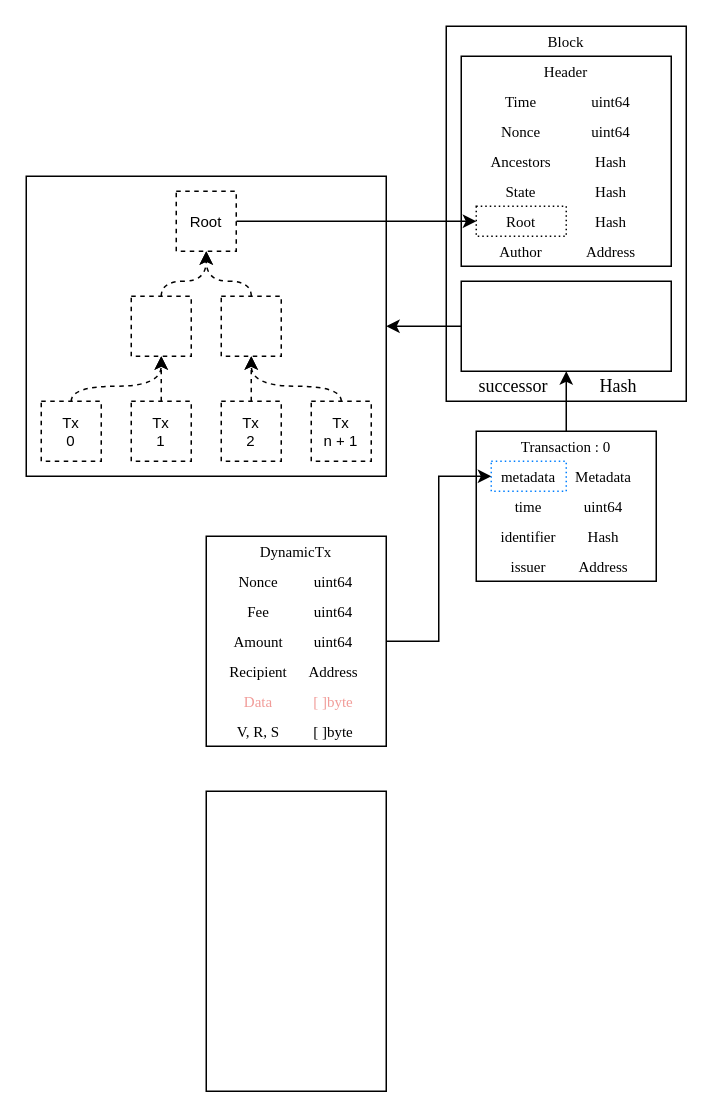
Some shapes in this 713 by 1118 pixel diagram are drawn without their labels. Each missing label, with the centre of its shape:
List of Transactions: the point at 565,325
Tx 0_1: the point at 160,325
Tx 2_n+1: the point at 250,325
WithdrawTx: the point at 295,940
